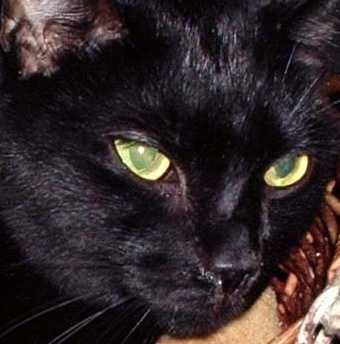Cat: (0, 1, 339, 343)
